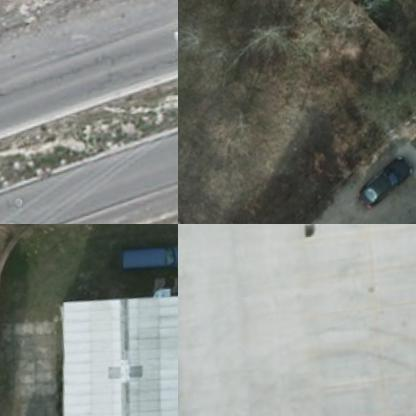car: (358, 157, 415, 211)
van: (110, 237, 177, 280)
